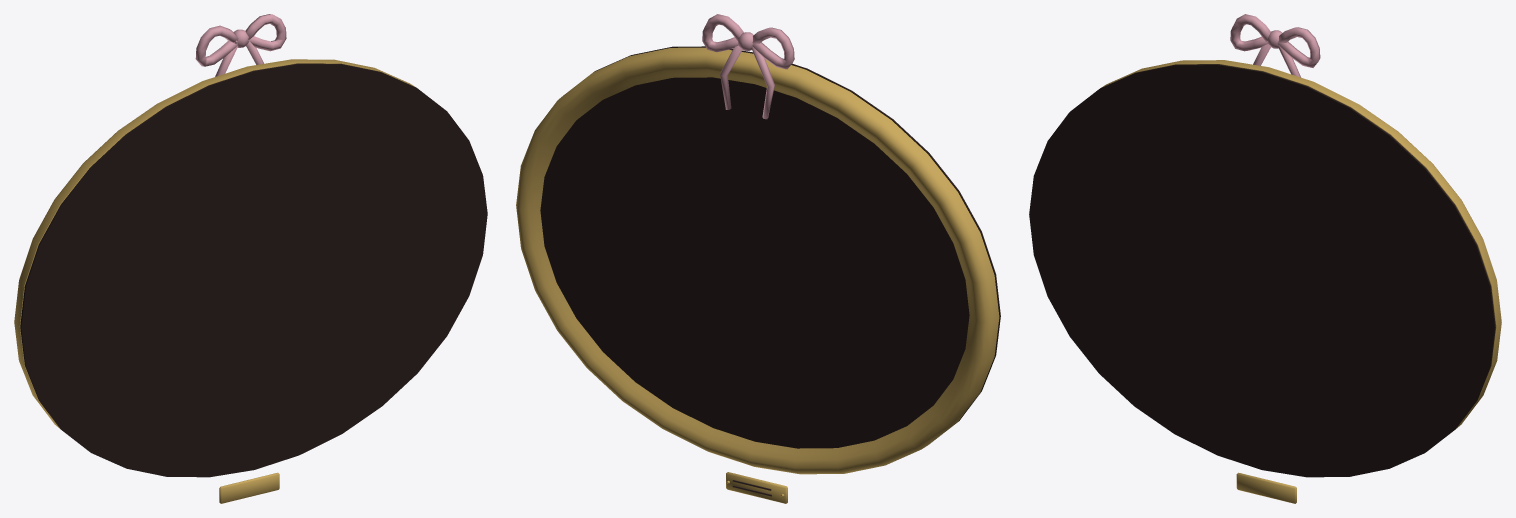
The model's file is oval_ribbon_oval_l.glb.
3 renders of one model, left to right at view 1: azimuth 30°, elevation 25°; view 2: azimuth 150°, elevation 25°; view 3: azimuth 330°, elevation 25°, orthographic. The views are drawn at different scales.
Parts seen in each view (by area): view 1: oval_ribbon_oval_l; view 2: oval_ribbon_oval_l; view 3: oval_ribbon_oval_l.
Part boxes in pixels (left/top/right/bottom): oval_ribbon_oval_l: left=14, top=14, right=487, bottom=503; oval_ribbon_oval_l: left=516, top=14, right=1000, bottom=503; oval_ribbon_oval_l: left=1029, top=14, right=1501, bottom=503.
Size of what is drawn, in the model's own units: 1.09 by 1.05 by 0.0763.
